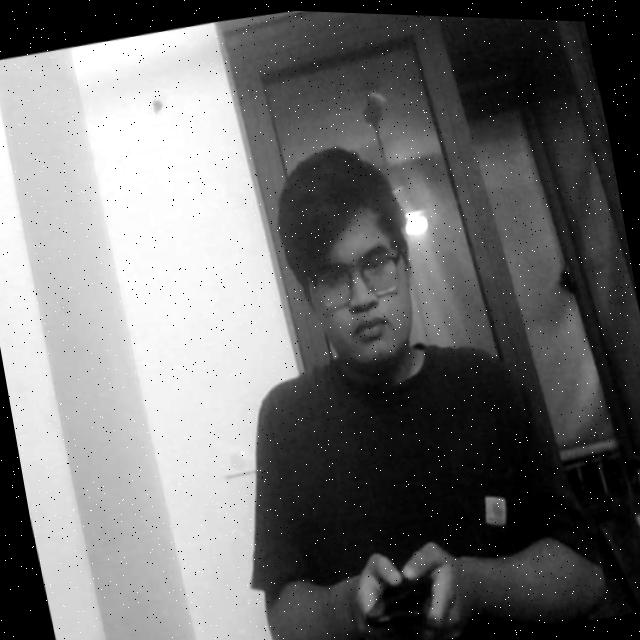phone: (338, 533, 456, 640)
